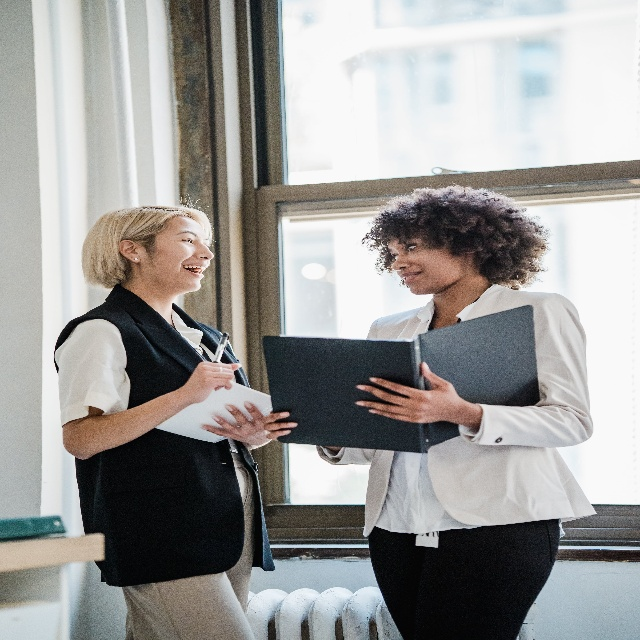Sin_guantes: (354, 369, 459, 419), (202, 407, 274, 450), (186, 360, 241, 391), (263, 411, 299, 434)
